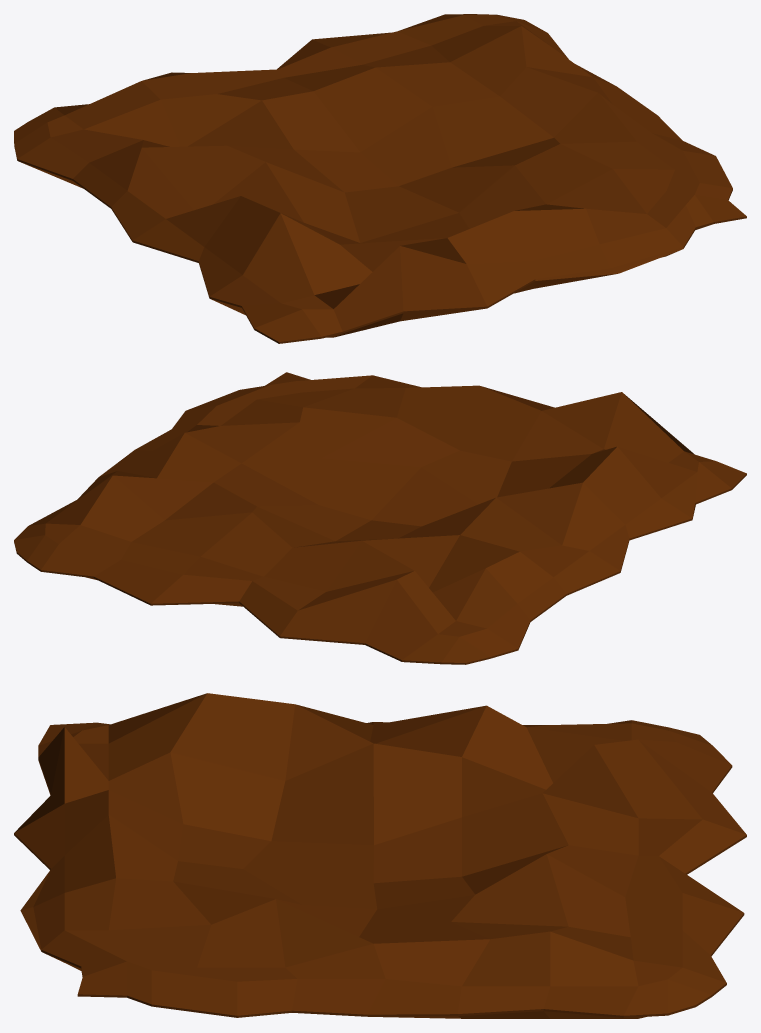
Rendered from Mud2.fbx.
3 views of the same model, one above another, from view 1: azimuth 30°, elevation 25°; view 2: azimuth 150°, elevation 25°; view 3: azimuth 270°, elevation 25° (orthographic). The views are drawn at different scales.
Visible parts, largest first — view 1: Cube; view 2: Cube; view 3: Cube.
Part boxes in pixels (<box>): Cube: <box>14,14,746,343</box>; Cube: <box>14,372,746,664</box>; Cube: <box>14,693,746,1018</box>.
Size of the model in its own units: 198 by 57.47 by 207.
